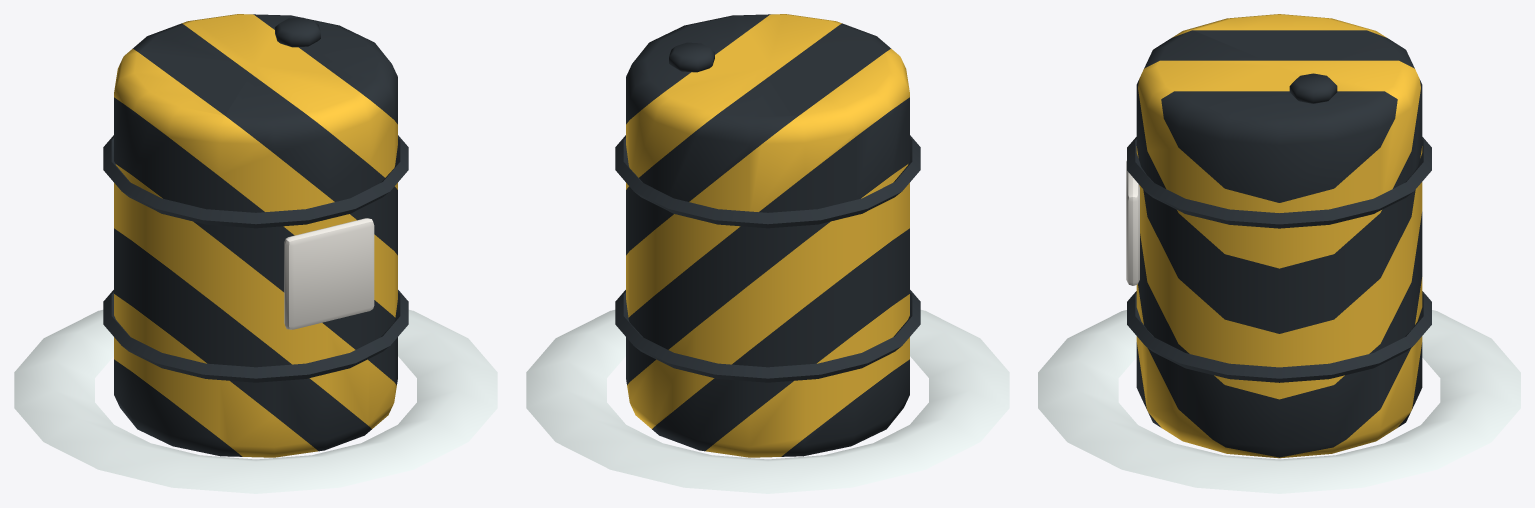
Rendered from W2_Barrel_B.fbx.
3 renders of one model, left to right at view 1: azimuth 30°, elevation 25°; view 2: azimuth 150°, elevation 25°; view 3: azimuth 270°, elevation 25°, orthographic.
Visible parts, largest first — view 1: W2_Barrel_B; view 2: W2_Barrel_B; view 3: W2_Barrel_B.
Part boxes in pixels (<box>): W2_Barrel_B: <box>14,14,497,493</box>; W2_Barrel_B: <box>526,14,1009,493</box>; W2_Barrel_B: <box>1038,14,1520,493</box>.
Size of the model in its own units: 1.44 by 1.14 by 1.42.
